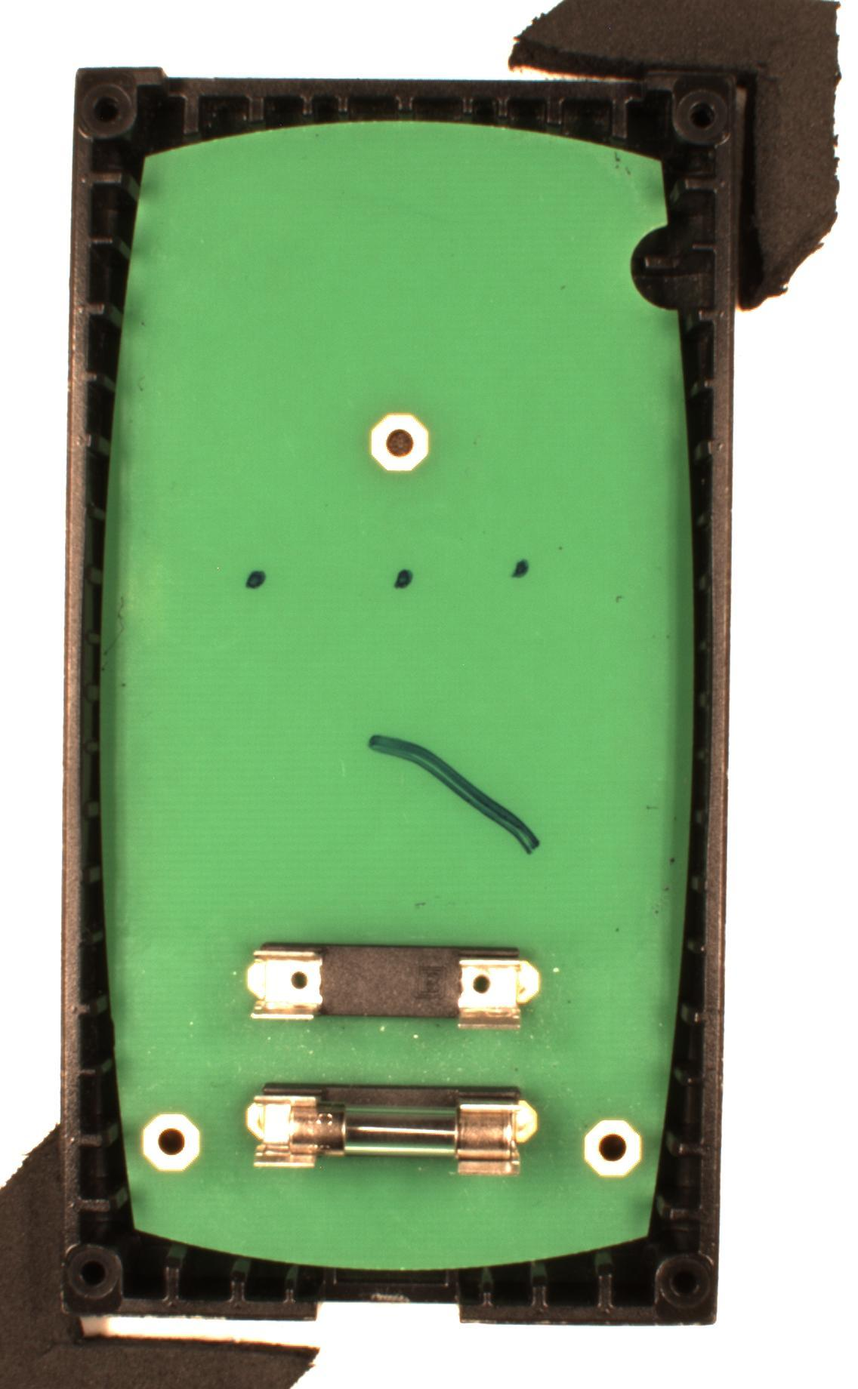Linijsko Ostecene: (364, 732, 544, 857)
Nepostojanje osiguraca: (244, 938, 542, 1034)
Tockasto Ostecenje: (392, 567, 415, 590), (245, 568, 267, 591), (510, 558, 531, 580)
